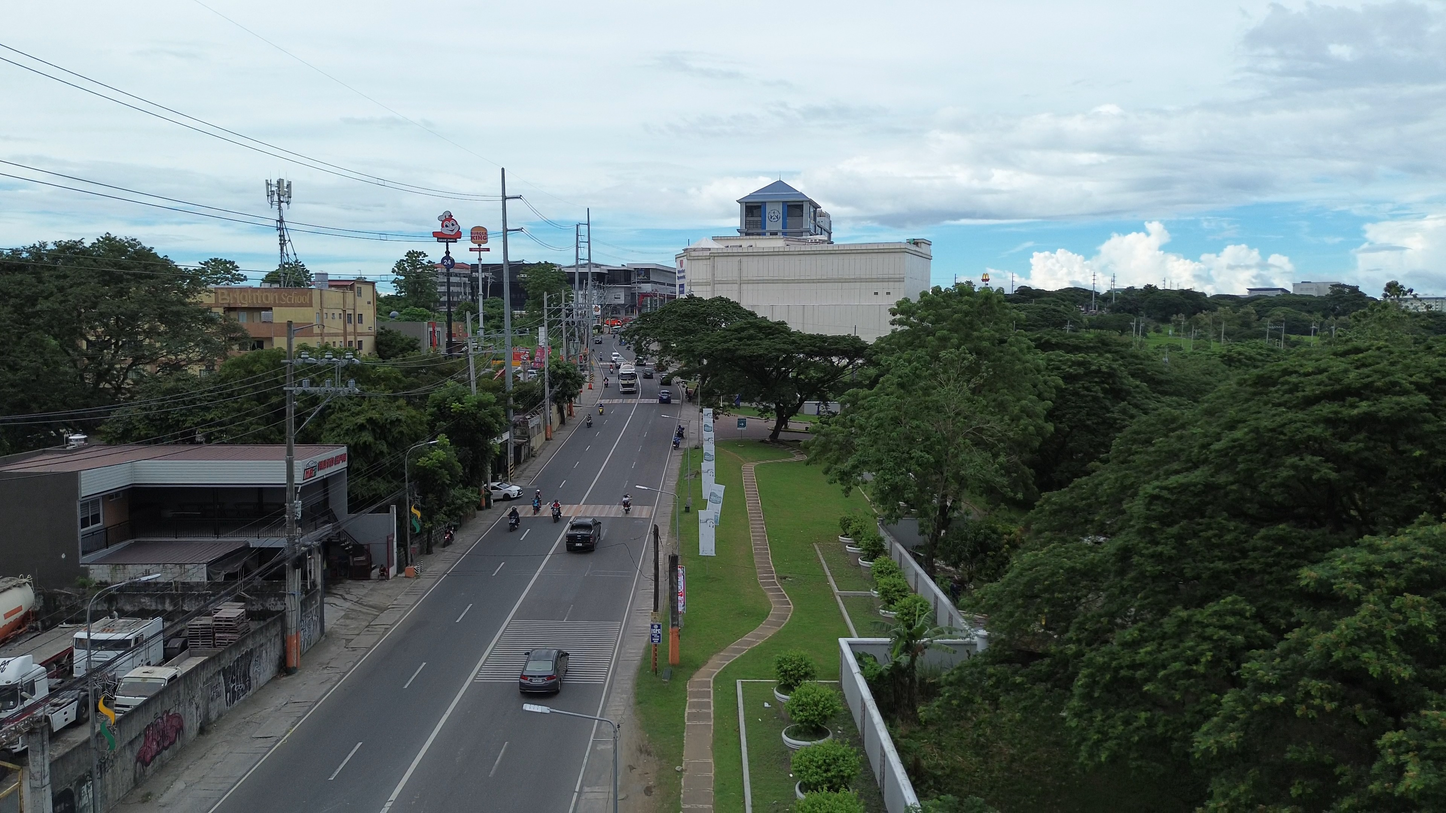car: (519, 649, 569, 693), (488, 483, 521, 500), (611, 351, 623, 362), (642, 368, 654, 379), (593, 336, 603, 344)
motorcycle: (509, 514, 520, 531), (552, 505, 562, 523), (532, 499, 541, 515), (672, 436, 681, 450), (622, 499, 630, 514), (585, 415, 593, 428), (598, 403, 603, 414)
vehicle: (0, 655, 86, 731), (73, 618, 163, 676), (113, 666, 180, 714), (0, 577, 35, 640), (566, 519, 601, 551), (618, 364, 638, 393), (508, 508, 520, 531), (551, 502, 561, 522), (658, 389, 671, 403), (641, 368, 654, 379), (585, 414, 593, 428)
